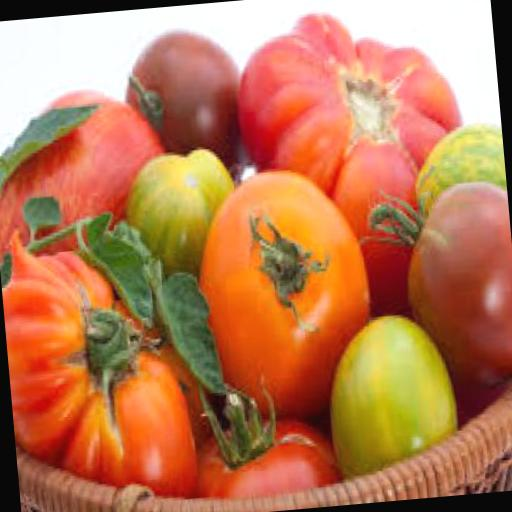biodegradable: (228, 0, 478, 322), (0, 215, 218, 509), (184, 159, 378, 430), (357, 174, 512, 395), (0, 80, 171, 279), (320, 306, 461, 478), (120, 21, 246, 193), (184, 366, 338, 498), (120, 145, 242, 282), (408, 118, 507, 222)
